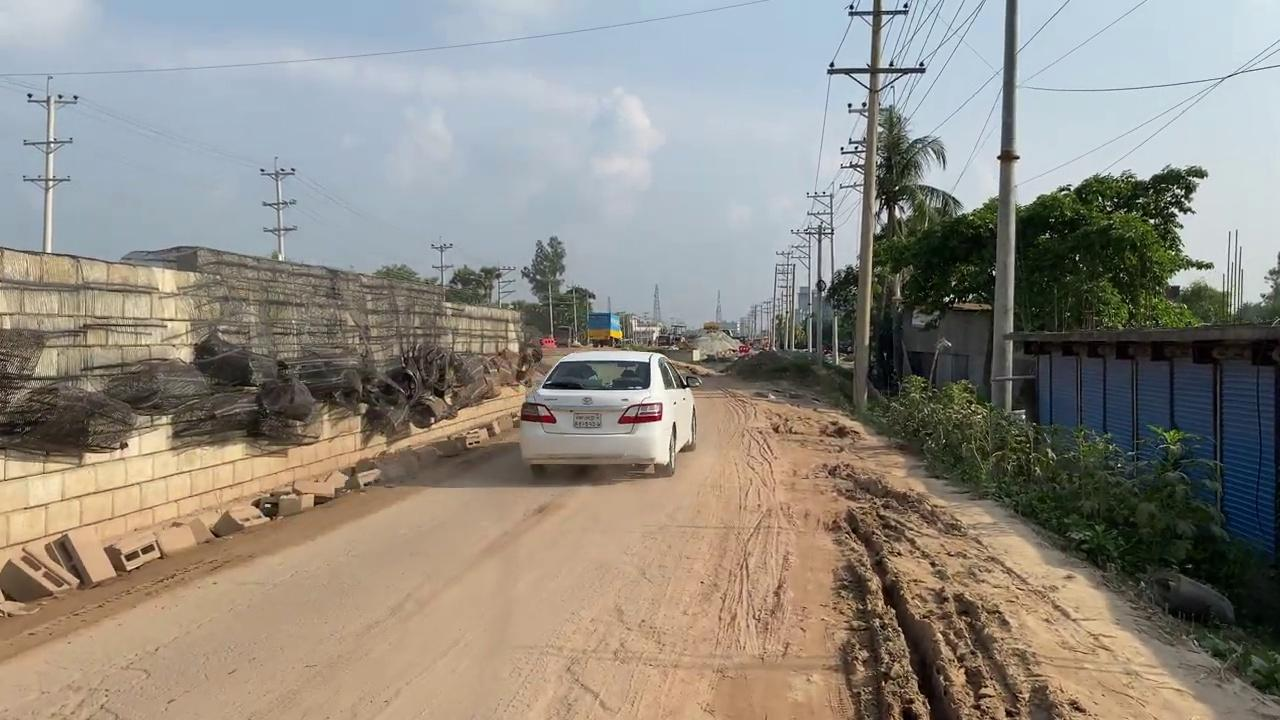Car: (518, 349, 698, 477)
Garbage: (1, 327, 542, 455)
Muddy road: (2, 347, 1275, 718)
Pole: (851, 0, 884, 416), (988, 1, 1019, 413)
Rickshaw: (712, 371, 1278, 718)
Traffic-sign: (835, 102, 964, 394), (520, 234, 566, 339)
Upstairs: (0, 243, 535, 595)
